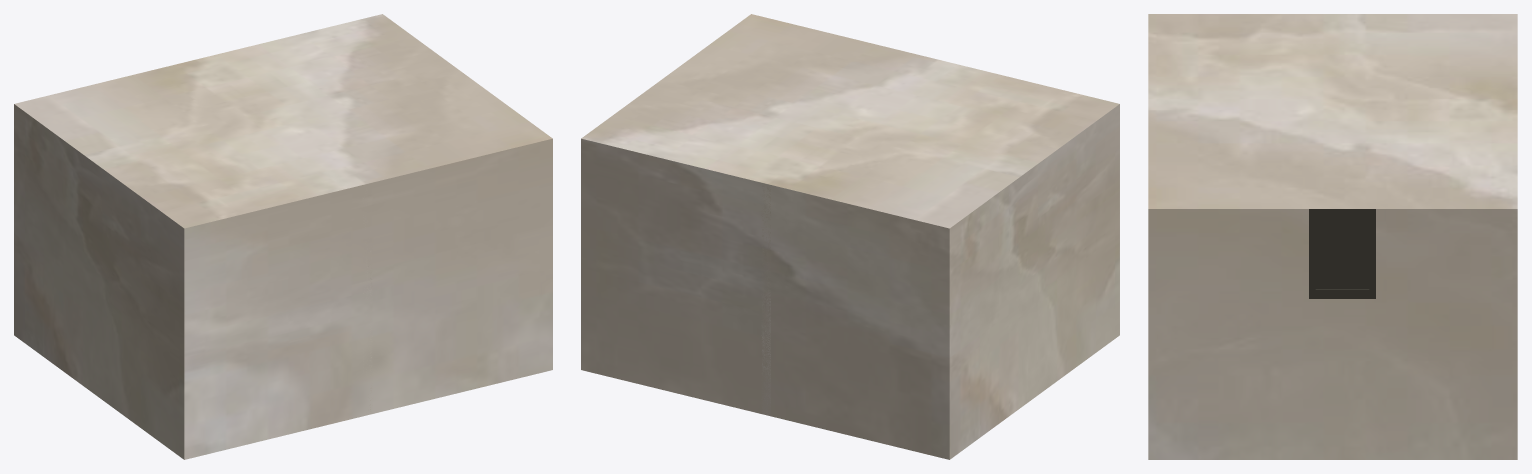
The model's file is Small Room 3.fbx.
3 renders of one model, left to right at view 1: azimuth 30°, elevation 25°; view 2: azimuth 150°, elevation 25°; view 3: azimuth 270°, elevation 25°, orthographic. The views are drawn at different scales.
Visible parts, largest first — view 1: Cube.030, Cube.033; view 2: Cube.030, Cube.033, Cube.034; view 3: Cube.030, Cube.036.
Part boxes in pixels (x1,y1,x2,y2): Cube.030: [14, 14, 552, 459]; Cube.033: [14, 104, 184, 459]; Cube.030: [581, 14, 1119, 459]; Cube.033: [949, 104, 1119, 459]; Cube.034: [761, 184, 770, 415]; Cube.030: [1148, 14, 1517, 459]; Cube.036: [1309, 209, 1375, 298].
Size of the model in its own units: 1000 by 600 by 800.
2 materials, 1 textured.
